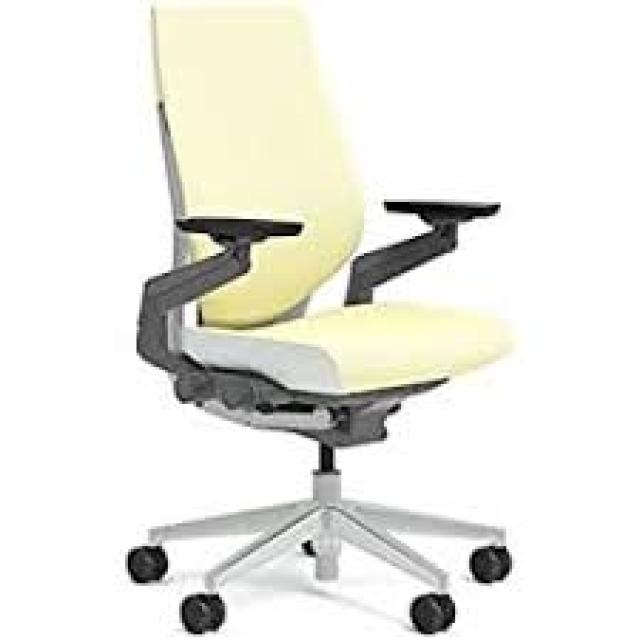chair: (68, 0, 628, 640)
